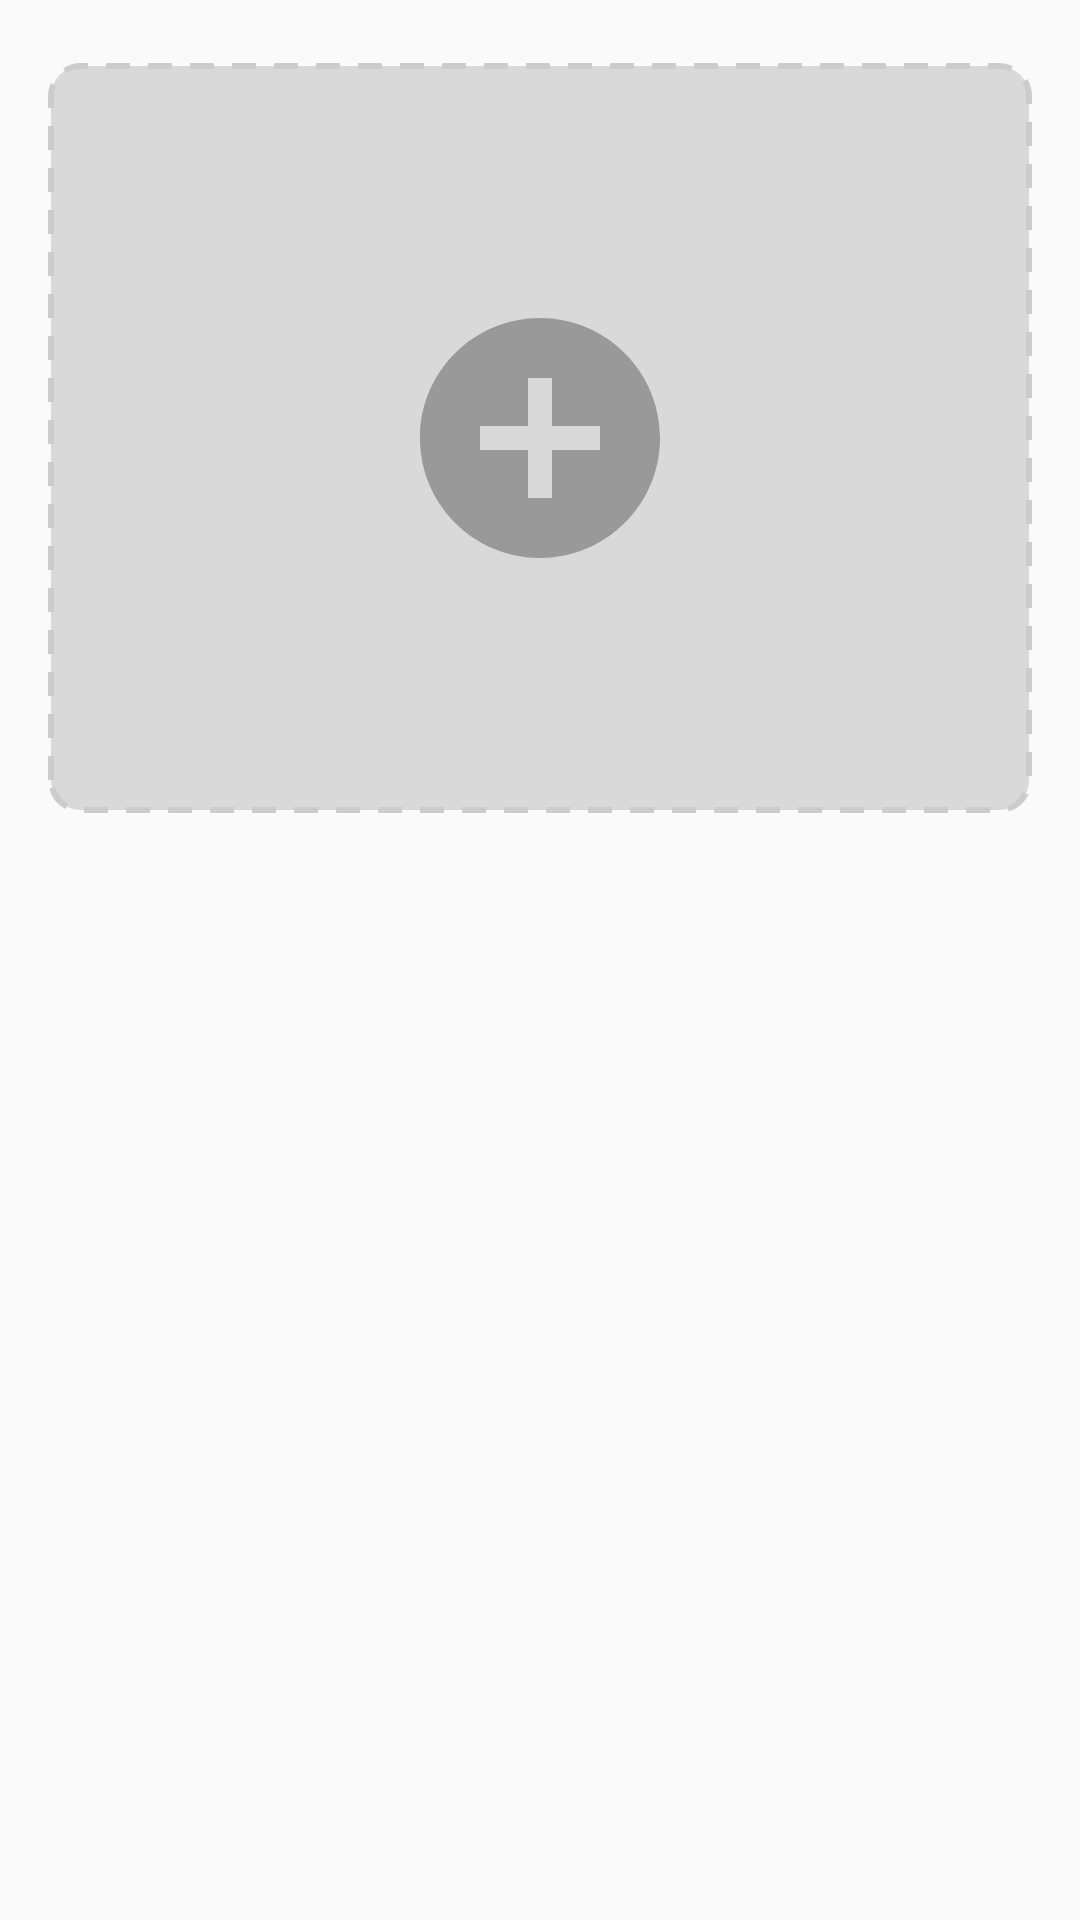

Named icons in this screenshot (1080 x 1920) and their centers, point (x, y):
add circle: point (540, 438)
